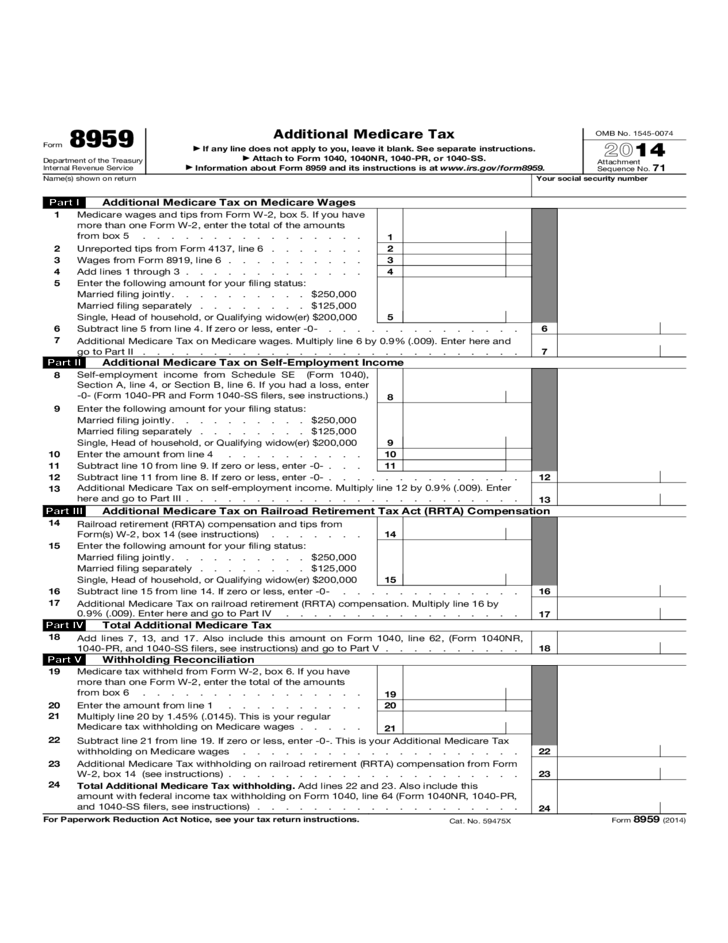textbox: (40, 172, 534, 200), (399, 273, 508, 325), (528, 170, 693, 198), (400, 205, 509, 245), (400, 373, 509, 404), (399, 421, 508, 452), (554, 334, 665, 360), (553, 461, 664, 487), (556, 483, 667, 509), (397, 515, 508, 541), (399, 562, 510, 588), (555, 574, 666, 600), (554, 595, 665, 621), (552, 629, 663, 655), (400, 681, 511, 703), (399, 696, 510, 718), (400, 714, 509, 736), (554, 739, 663, 761), (554, 760, 663, 782), (554, 793, 663, 815), (554, 318, 660, 337), (399, 240, 511, 256), (398, 251, 510, 267), (398, 262, 510, 278), (397, 445, 509, 461), (396, 454, 508, 470), (501, 272, 534, 324), (503, 205, 535, 246), (656, 600, 693, 621), (655, 579, 692, 600), (656, 636, 693, 657), (656, 739, 693, 760), (655, 761, 692, 782), (656, 795, 693, 816), (496, 717, 533, 738), (499, 694, 536, 715), (501, 382, 533, 406), (503, 427, 535, 451), (502, 522, 533, 544), (502, 565, 533, 587), (503, 679, 534, 701), (656, 319, 694, 336), (656, 342, 694, 359), (502, 444, 535, 463), (500, 455, 533, 474), (657, 466, 690, 485), (658, 490, 691, 509), (503, 249, 534, 267), (501, 260, 532, 278), (501, 239, 536, 254)
